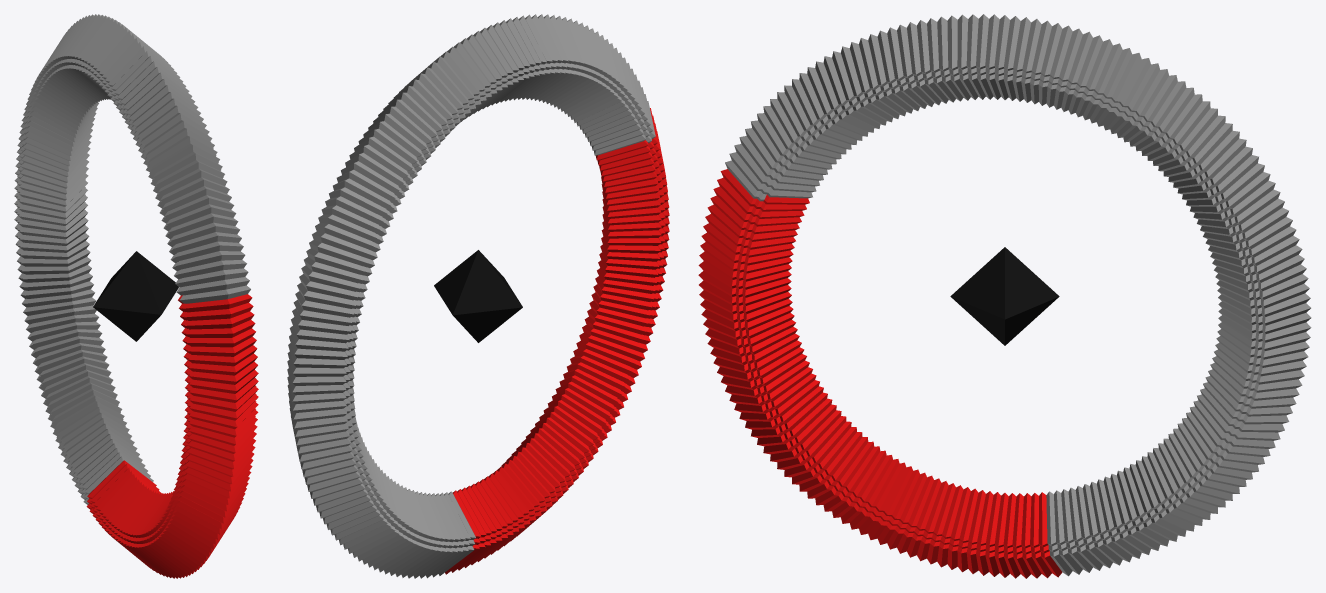
File: local_feasible_centers.obj
3 views of the same model, side by side, from view 1: azimuth 30°, elevation 25°; view 2: azimuth 150°, elevation 25°; view 3: azimuth 270°, elevation 25° (orthographic). The views are drawn at different scales.
Parts seen in each view (by area): view 1: rejected_candidates, feasible_candidates, target_point_000264; view 2: rejected_candidates, feasible_candidates, target_point_000264; view 3: rejected_candidates, feasible_candidates, target_point_000264.
Boxes of the visible parts, x1,y1,x2,y2 form: rejected_candidates: [14, 14, 250, 504]; feasible_candidates: [86, 294, 258, 578]; target_point_000264: [93, 251, 178, 341]; rejected_candidates: [287, 14, 655, 578]; feasible_candidates: [445, 108, 669, 574]; target_point_000264: [434, 250, 522, 342]; rejected_candidates: [725, 14, 1311, 576]; feasible_candidates: [698, 169, 1062, 578]; target_point_000264: [950, 247, 1059, 345].
Size of the model in its own units: 0.0621 by 0.23 by 0.2269.
